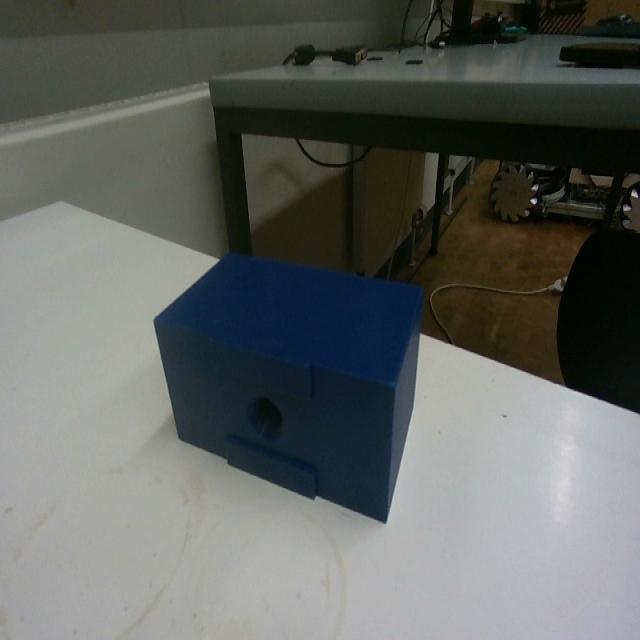Blue Cuboid: (151, 245, 426, 524)
